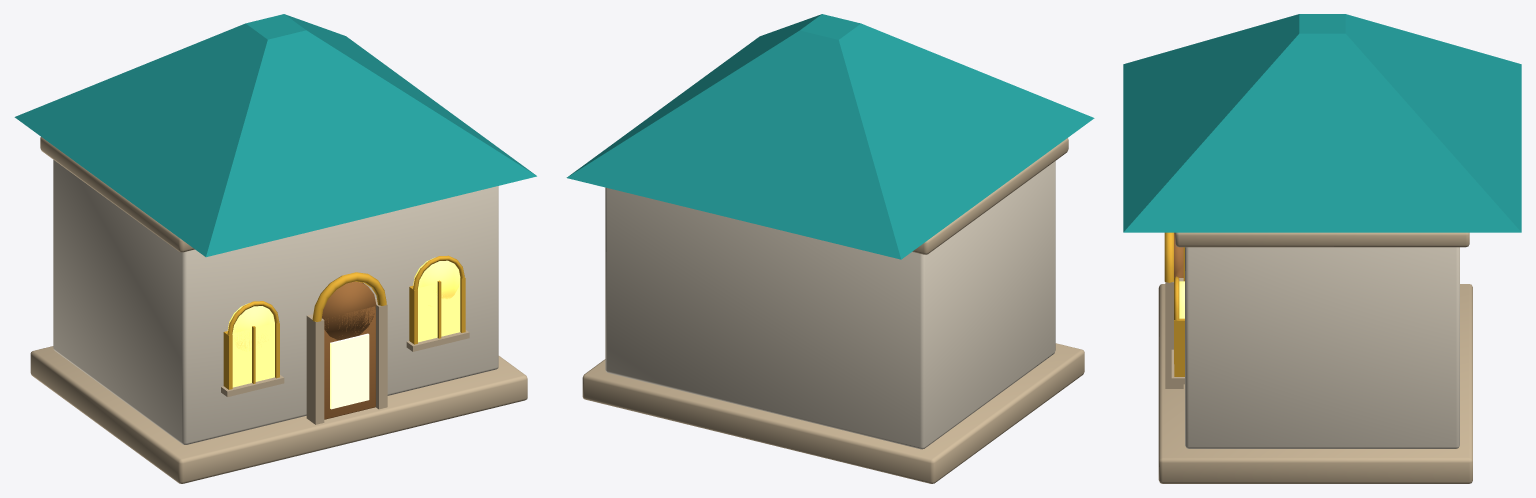
File: magazin_2.glb
The picture shows the model from 3 angles, left to right: view 1: azimuth 30°, elevation 25°; view 2: azimuth 150°, elevation 25°; view 3: azimuth 270°, elevation 25°; orthographic projection. The views are drawn at different scales.
Visible parts, largest first — view 1: Mag.001; view 2: Mag.001; view 3: Mag.001.
Boxes of the visible parts, <box> form: Mag.001: <box>14,14,536,483</box>; Mag.001: <box>566,14,1094,483</box>; Mag.001: <box>1123,14,1521,483</box>.
Size of the model in its own units: 3.2 by 3.14 by 3.04.
